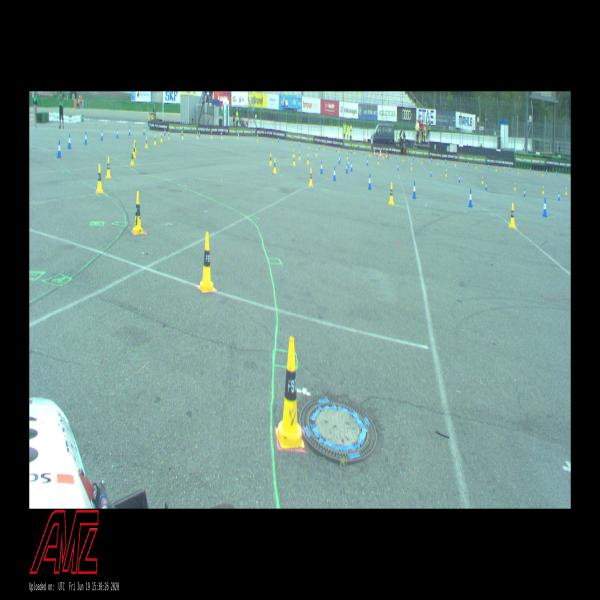blue_cone: (542, 198, 546, 217), (412, 181, 416, 199), (468, 189, 472, 207), (57, 140, 61, 157), (368, 174, 371, 189), (333, 166, 336, 181), (68, 133, 71, 148), (320, 161, 323, 174), (84, 132, 87, 144), (350, 161, 352, 172), (101, 130, 103, 140), (116, 128, 118, 138), (346, 163, 348, 173), (347, 159, 349, 168), (485, 182, 487, 190), (558, 193, 560, 200), (430, 170, 432, 176), (397, 164, 399, 170), (220, 131, 222, 137), (164, 129, 166, 135), (278, 137, 280, 142), (339, 155, 340, 164), (129, 127, 130, 135), (144, 127, 145, 135), (376, 152, 378, 156), (556, 171, 558, 175), (238, 134, 240, 138), (350, 150, 352, 154), (367, 158, 368, 165), (524, 189, 525, 196), (459, 175, 460, 182), (182, 130, 183, 136), (199, 130, 200, 136), (319, 144, 320, 149), (530, 167, 531, 172), (546, 169, 547, 174), (413, 155, 414, 160), (336, 147, 337, 152), (468, 160, 469, 165), (488, 164, 489, 168), (509, 166, 510, 170), (396, 154, 397, 158), (299, 141, 300, 145), (445, 159, 446, 163), (340, 154, 340, 162), (432, 157, 432, 162), (364, 151, 364, 155)
large_orange_cone: (380, 149, 382, 157), (374, 148, 375, 157), (379, 149, 380, 158), (386, 151, 387, 159)
yellow_cone: (276, 337, 304, 448), (198, 232, 215, 292), (133, 192, 144, 234), (96, 164, 103, 193), (509, 203, 515, 227), (388, 183, 393, 204), (106, 157, 111, 178), (309, 168, 313, 186), (130, 148, 134, 166), (133, 143, 136, 158), (274, 158, 276, 173), (145, 137, 148, 147), (134, 140, 136, 152), (270, 154, 272, 165), (154, 134, 156, 144), (307, 154, 309, 164), (294, 156, 296, 165), (514, 182, 516, 190), (168, 132, 170, 140), (565, 188, 567, 195), (182, 132, 184, 139), (445, 170, 447, 176), (542, 187, 544, 193), (221, 132, 223, 138), (454, 160, 456, 166), (338, 147, 340, 152), (161, 133, 162, 142), (197, 131, 198, 139), (299, 151, 300, 159), (402, 157, 404, 161), (272, 138, 274, 142), (411, 163, 412, 170), (293, 150, 294, 157), (316, 149, 317, 156), (482, 177, 483, 183), (378, 158, 379, 164), (347, 153, 348, 159), (211, 132, 212, 138), (291, 140, 292, 146), (518, 168, 519, 173), (257, 136, 258, 141), (309, 143, 310, 148), (542, 171, 543, 176), (370, 151, 371, 156), (422, 158, 423, 163), (354, 149, 355, 154), (324, 145, 325, 150), (383, 154, 384, 158), (476, 163, 476, 168), (496, 166, 496, 171), (438, 159, 438, 164), (238, 134, 238, 139), (570, 175, 570, 180)
